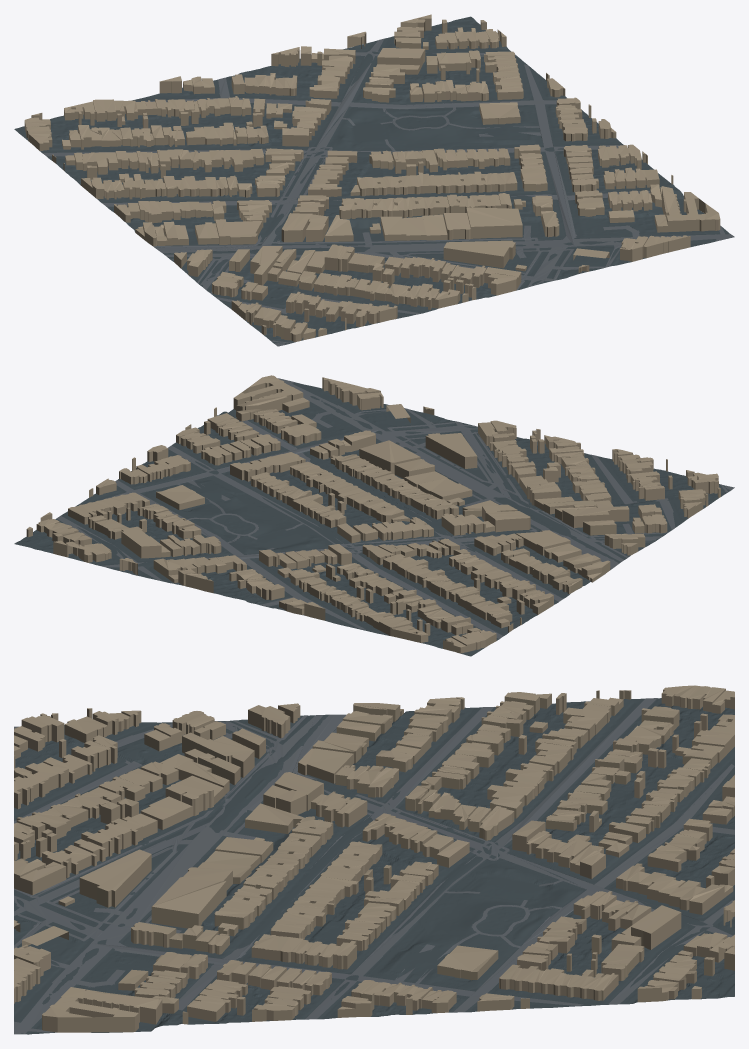
File: epsg26910-1427-10868.lod0.glb
3 renders of one model, top to bottom at view 1: azimuth 30°, elevation 25°; view 2: azimuth 150°, elevation 25°; view 3: azimuth 270°, elevation 25°, orthographic. The views are drawn at different scales.
Visible parts, largest first — view 1: epsg26910-1427-10868-lod0; view 2: epsg26910-1427-10868-lod0; view 3: epsg26910-1427-10868-lod0.
Part boxes in pixels (x1,y1,x2,y2): epsg26910-1427-10868-lod0: (14, 14, 734, 346); epsg26910-1427-10868-lod0: (14, 375, 734, 656); epsg26910-1427-10868-lod0: (14, 685, 734, 1034).
Size of the model in its own units: 384 by 31.79 by 384.
